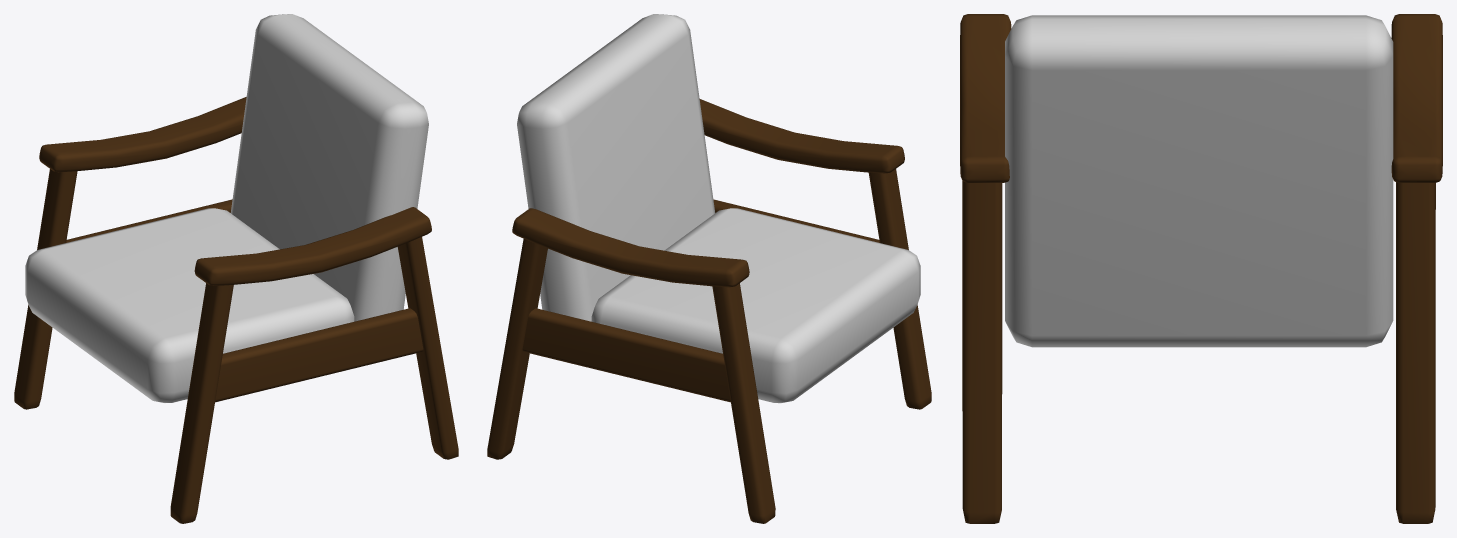
Rendered from armchair_08_leather_white.fbx.
3 views of the same model, side by side, from view 1: azimuth 30°, elevation 25°; view 2: azimuth 150°, elevation 25°; view 3: azimuth 270°, elevation 25° (orthographic). The views are drawn at different scales.
Visible parts, largest first — view 1: armchair_08_leather_white; view 2: armchair_08_leather_white; view 3: armchair_08_leather_white.
Boxes of the visible parts, x1,y1,x2,y2 form: armchair_08_leather_white: (14,14,458,523); armchair_08_leather_white: (487,14,931,523); armchair_08_leather_white: (960,14,1442,523).
Size of the model in its own units: 94.97 by 109 by 99.4.
1 material, 1 textured.
